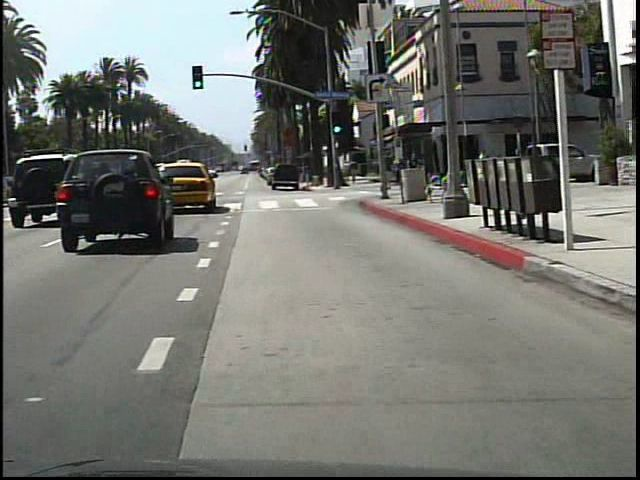person: (474, 147, 493, 192), (384, 150, 398, 194)
